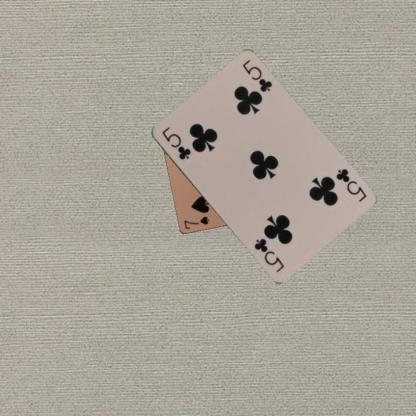5c: (333, 166, 367, 204), (158, 124, 192, 161)
7s: (182, 214, 210, 230)
